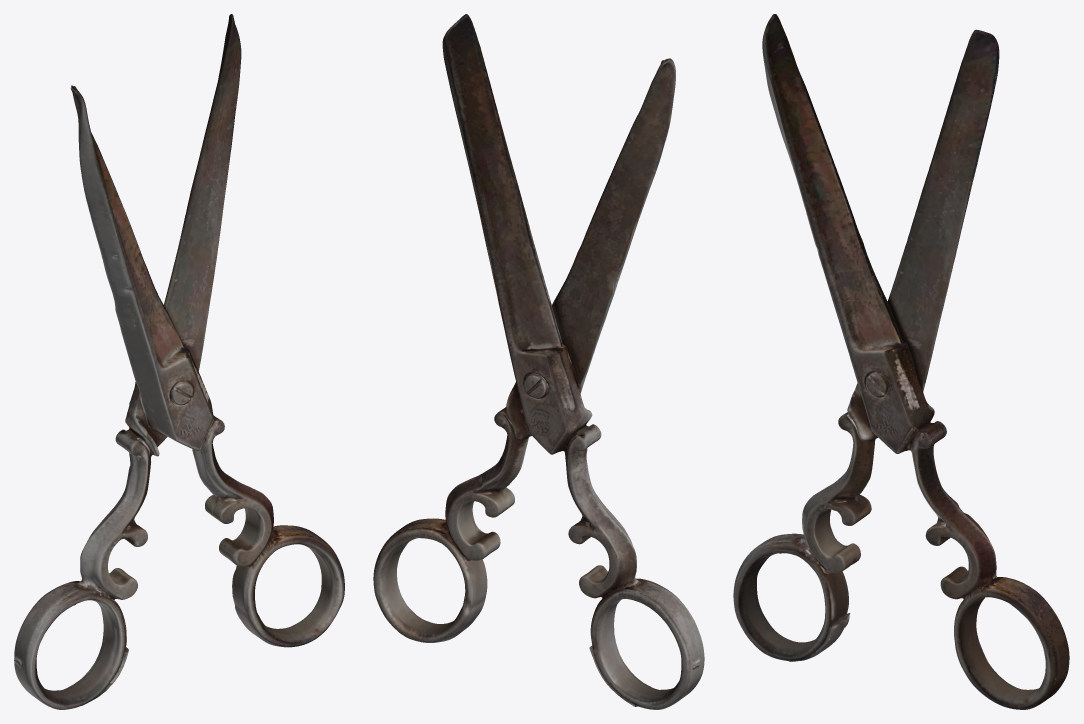
File: scissors1.fbx
3 views of the same model, side by side, from view 1: azimuth 30°, elevation 25°; view 2: azimuth 150°, elevation 25°; view 3: azimuth 330°, elevation 25° (orthographic). The views are drawn at different scales.
Parts seen in each view (by area): view 1: tripo_node_2ef103b9; view 2: tripo_node_2ef103b9; view 3: tripo_node_2ef103b9.
Part boxes in pixels (x1,y1,x2,y2): tripo_node_2ef103b9: (14,14,344,709); tripo_node_2ef103b9: (373,14,704,709); tripo_node_2ef103b9: (733,14,1069,709).
Size of the model in its own units: 50.73 by 11.24 by 98.01.
1 material, 1 textured.
